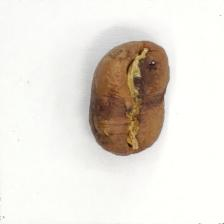NG: (137, 54, 167, 124), (91, 92, 130, 142)
